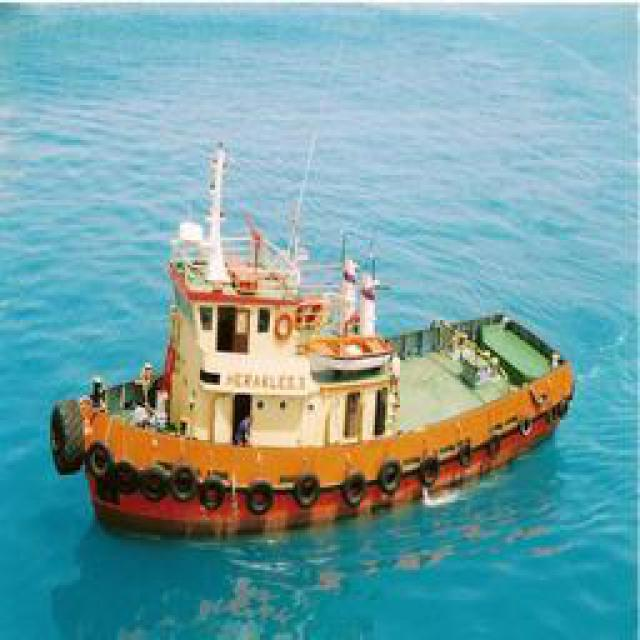Ship: (55, 155, 575, 535)
